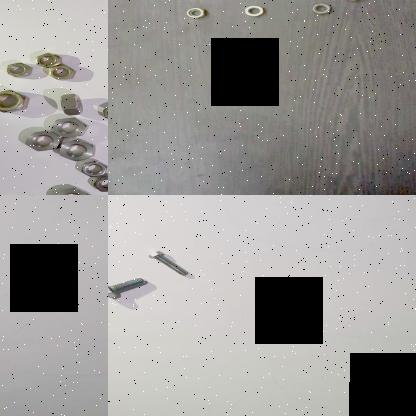Bolts: (144, 248, 193, 278), (108, 273, 147, 302)
NUTS: (22, 128, 63, 154), (58, 136, 98, 162), (47, 116, 87, 140), (0, 88, 32, 115), (57, 92, 84, 120), (46, 63, 81, 82), (30, 52, 63, 70), (3, 60, 32, 80), (79, 160, 108, 178), (180, 6, 210, 22), (243, 3, 268, 19), (308, 1, 334, 15), (50, 187, 94, 195), (92, 174, 108, 194), (100, 102, 108, 122)
